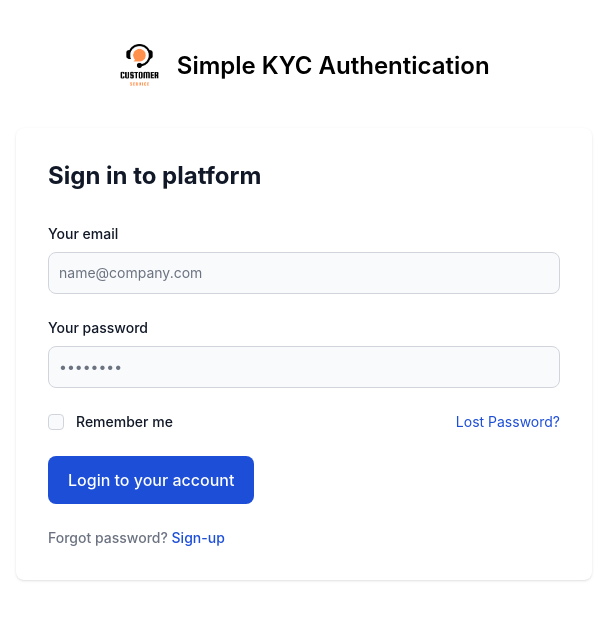
Test: Login Component › shows validation errors for empty fields
Click the button "Login to your account" at x=151, y=480, box [48, 456, 254, 504]
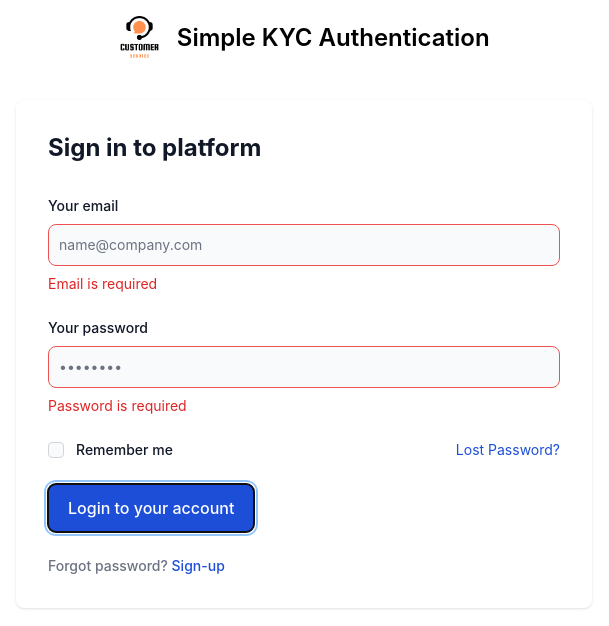
Now the text "Email is required" is shown, box [48, 275, 157, 292]
Now the text "Password is required" is shown, box [48, 397, 187, 414]
